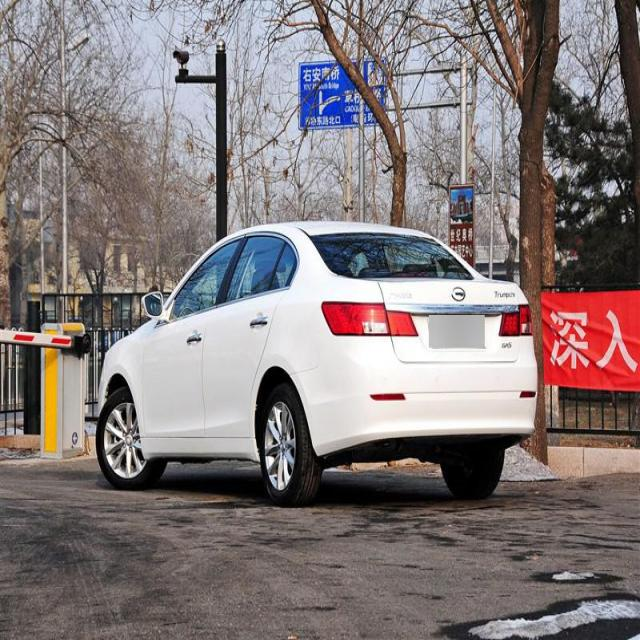back_glass: (310, 232, 476, 284)
back_left_side_light: (321, 299, 419, 339)
back_right_side_light: (496, 302, 535, 341)
door: (202, 234, 301, 438)
front_left_side_door: (140, 230, 245, 445)
front_left_side_mirror: (142, 288, 166, 320)
rear_bumper: (289, 332, 539, 458)
wheel: (260, 387, 322, 506), (96, 387, 165, 488), (437, 454, 506, 493)
